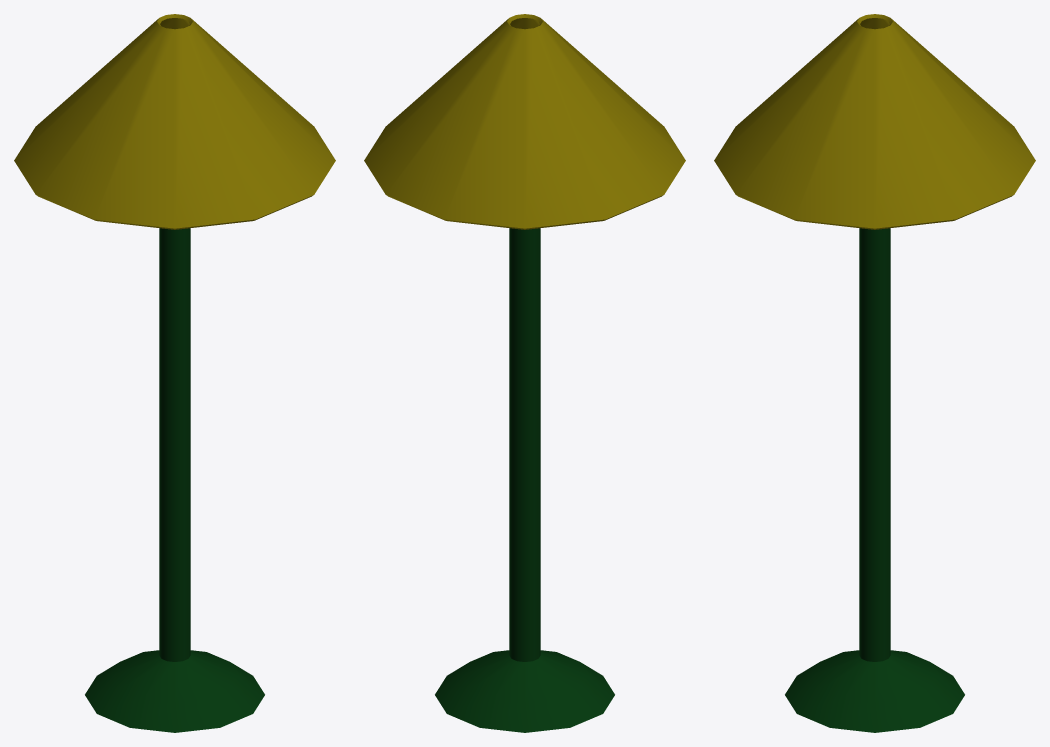
File: FloorLamp.fbx
3 renders of one model, left to right at view 1: azimuth 30°, elevation 25°; view 2: azimuth 150°, elevation 25°; view 3: azimuth 270°, elevation 25°, orthographic.
Visible parts, largest first — view 1: Lamp; view 2: Lamp; view 3: Lamp.
Boxes of the visible parts, x1=… form: Lamp: x1=14, y1=14, x2=335, y2=732; Lamp: x1=364, y1=14, x2=685, y2=732; Lamp: x1=714, y1=14, x2=1035, y2=732.
Size of the model in its own units: 118 by 272 by 118.
